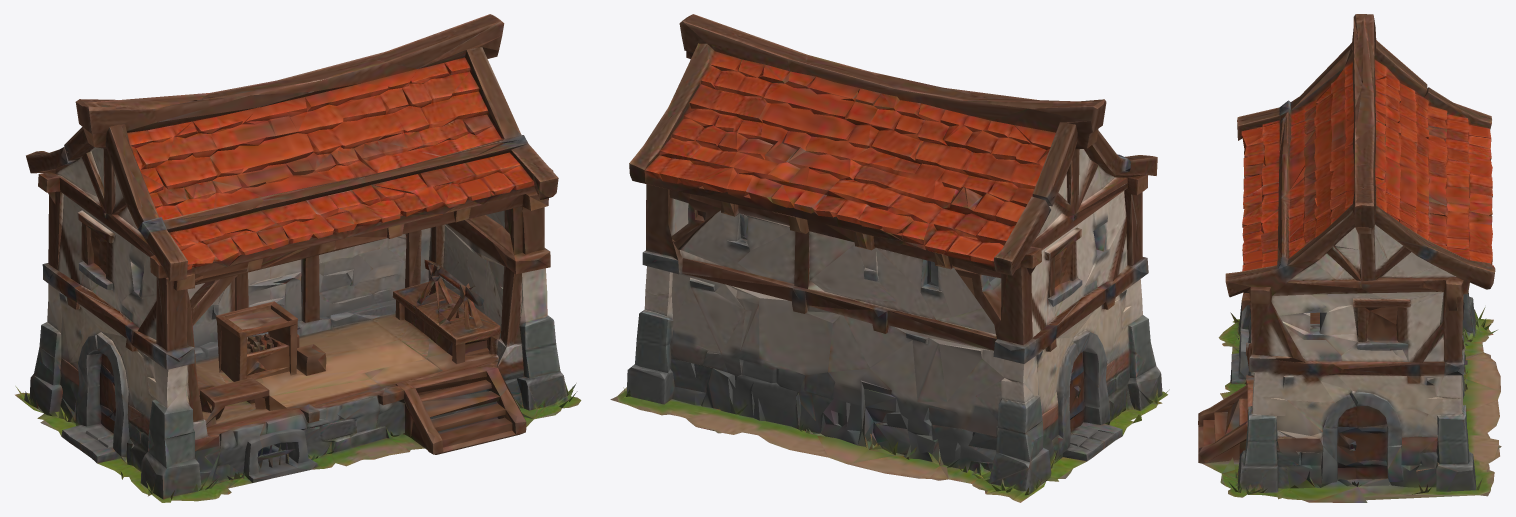
File: archery.glb
3 renders of one model, left to right at view 1: azimuth 30°, elevation 25°; view 2: azimuth 150°, elevation 25°; view 3: azimuth 270°, elevation 25°, orthographic. The views are drawn at different scales.
Size of the model in its own units: 1.88 by 1.42 by 1.29.
1 material, 1 textured.
